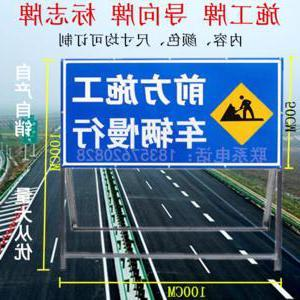sign: (62, 58, 283, 167)
